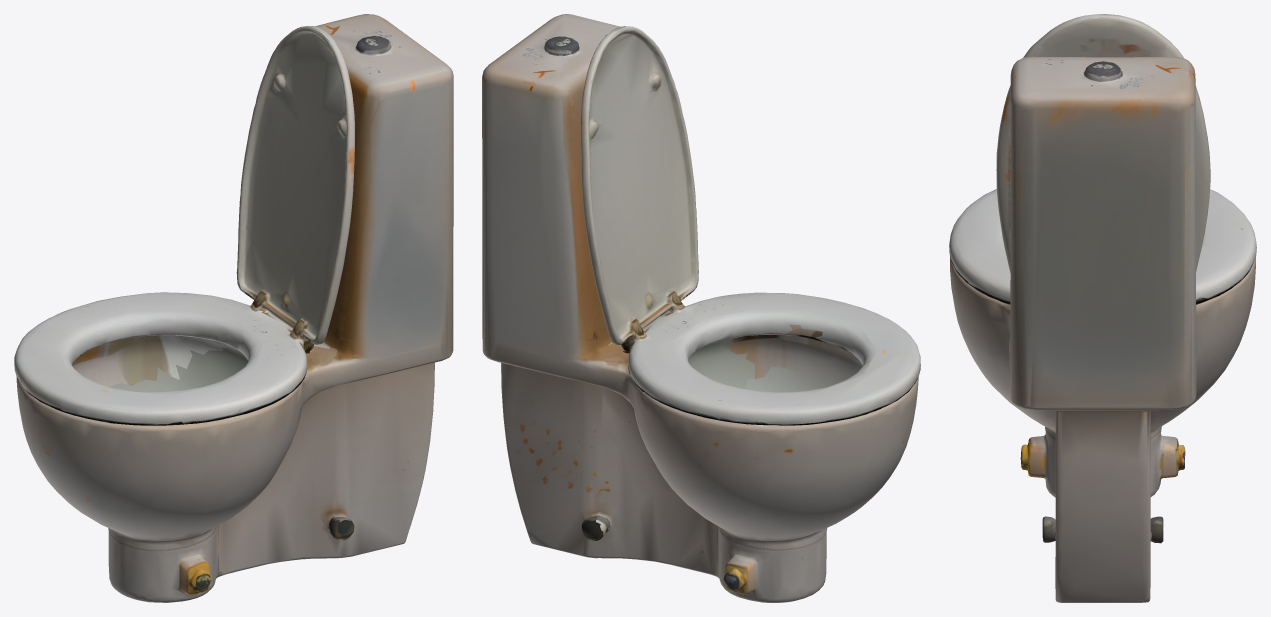
Rendered from prison_toilet3_001.glb.
3 renders of one model, left to right at view 1: azimuth 30°, elevation 25°; view 2: azimuth 150°, elevation 25°; view 3: azimuth 270°, elevation 25°, orthographic. The views are drawn at different scales.
Parts seen in each view (by area): view 1: aff1a588-c024-440b-b2fb-25bfc9f64151_texturing.obj; view 2: aff1a588-c024-440b-b2fb-25bfc9f64151_texturing.obj; view 3: aff1a588-c024-440b-b2fb-25bfc9f64151_texturing.obj.
Part boxes in pixels (<box>): aff1a588-c024-440b-b2fb-25bfc9f64151_texturing.obj: <box>14,14,453,602</box>; aff1a588-c024-440b-b2fb-25bfc9f64151_texturing.obj: <box>482,14,920,602</box>; aff1a588-c024-440b-b2fb-25bfc9f64151_texturing.obj: <box>949,14,1256,602</box>.
Bounding box in the file's own units: 0.7903 × 1 × 0.5021.
1 material, 1 textured.
